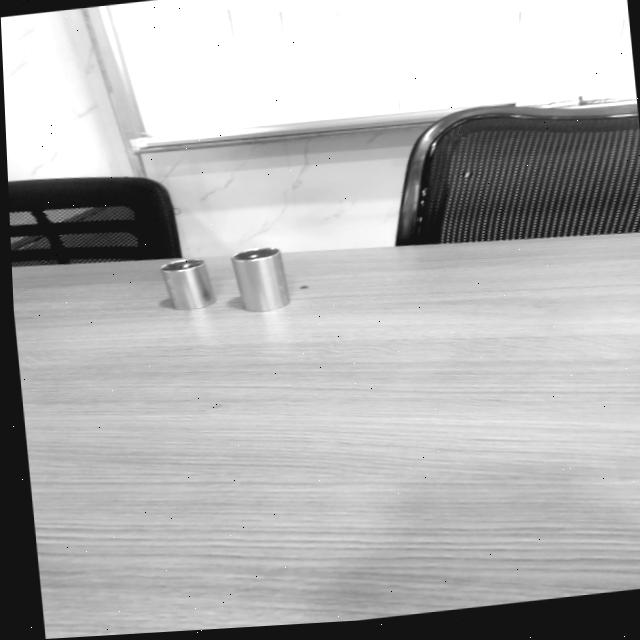Co_Lon: (229, 243, 291, 315)
Co_Nho: (158, 252, 216, 316)
